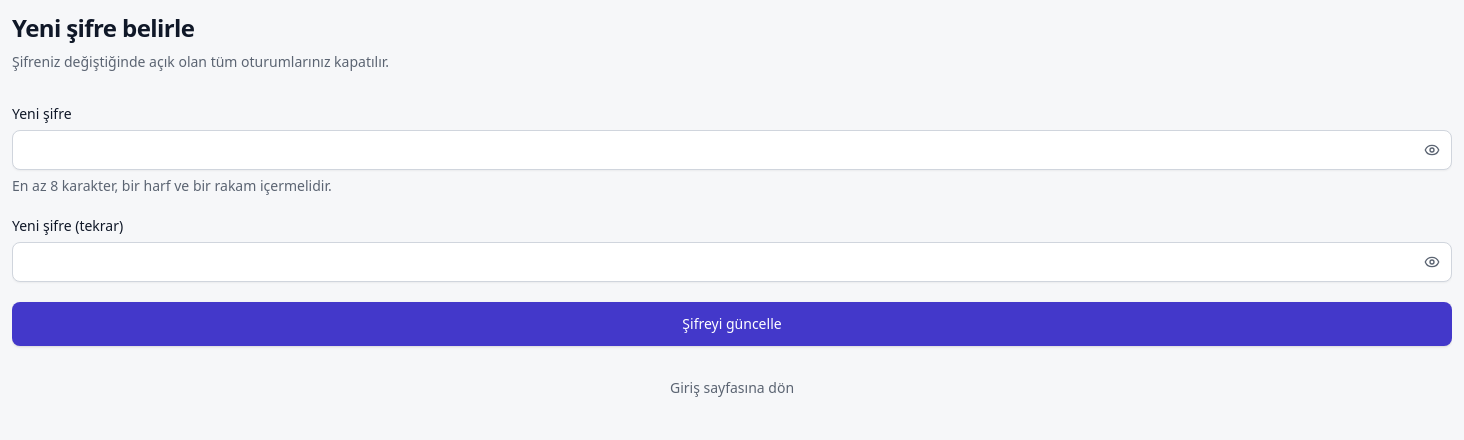
Scenario: ResetPasswordForm › rejects passwords that do not match
Step 1. Type "guvenli123" into the password field labelled "Yeni şifre" → (732, 150), box [12, 130, 1452, 170]
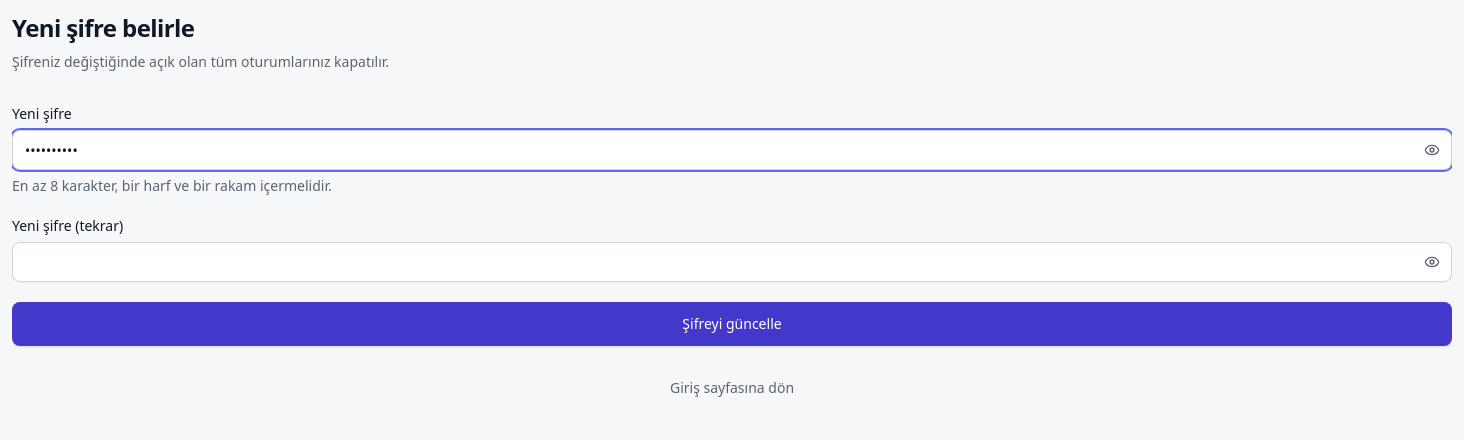
Step 2. Type "guvenli124" into the password field labelled "Yeni şifre (tekrar)" → (732, 262), box [12, 242, 1452, 282]
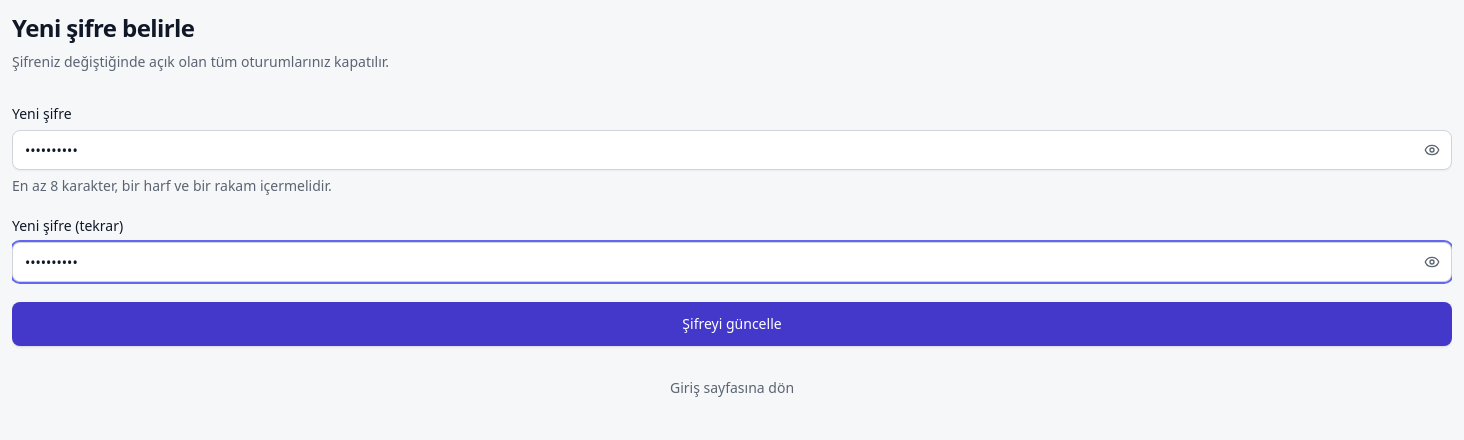
Step 3. Click the button "Şifreyi güncelle" → (732, 324), box [12, 302, 1452, 346]
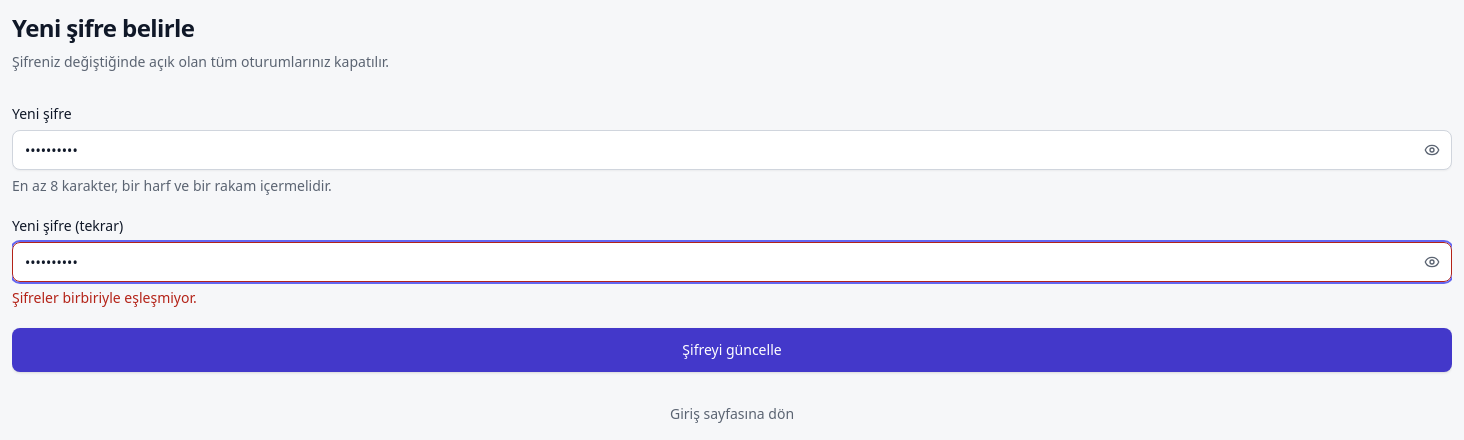
Check: the text "Şifreler birbiriyle eşleşmiyor." is shown, box [12, 288, 197, 307]
